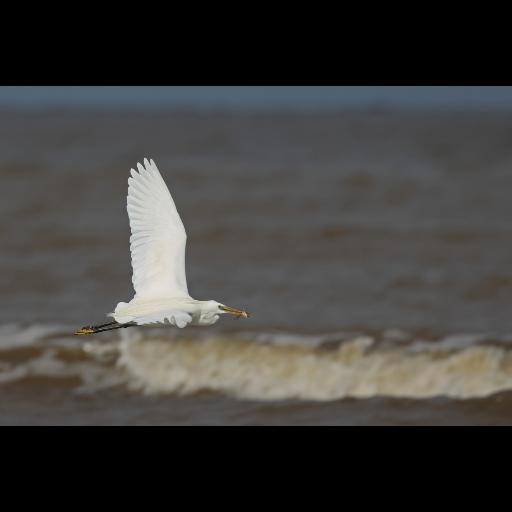chinese_egret: (75, 158, 251, 336)
